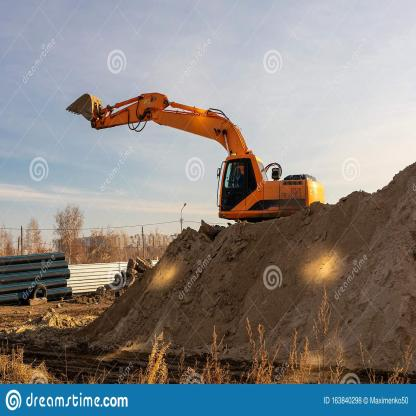excavator: (64, 85, 332, 237)
